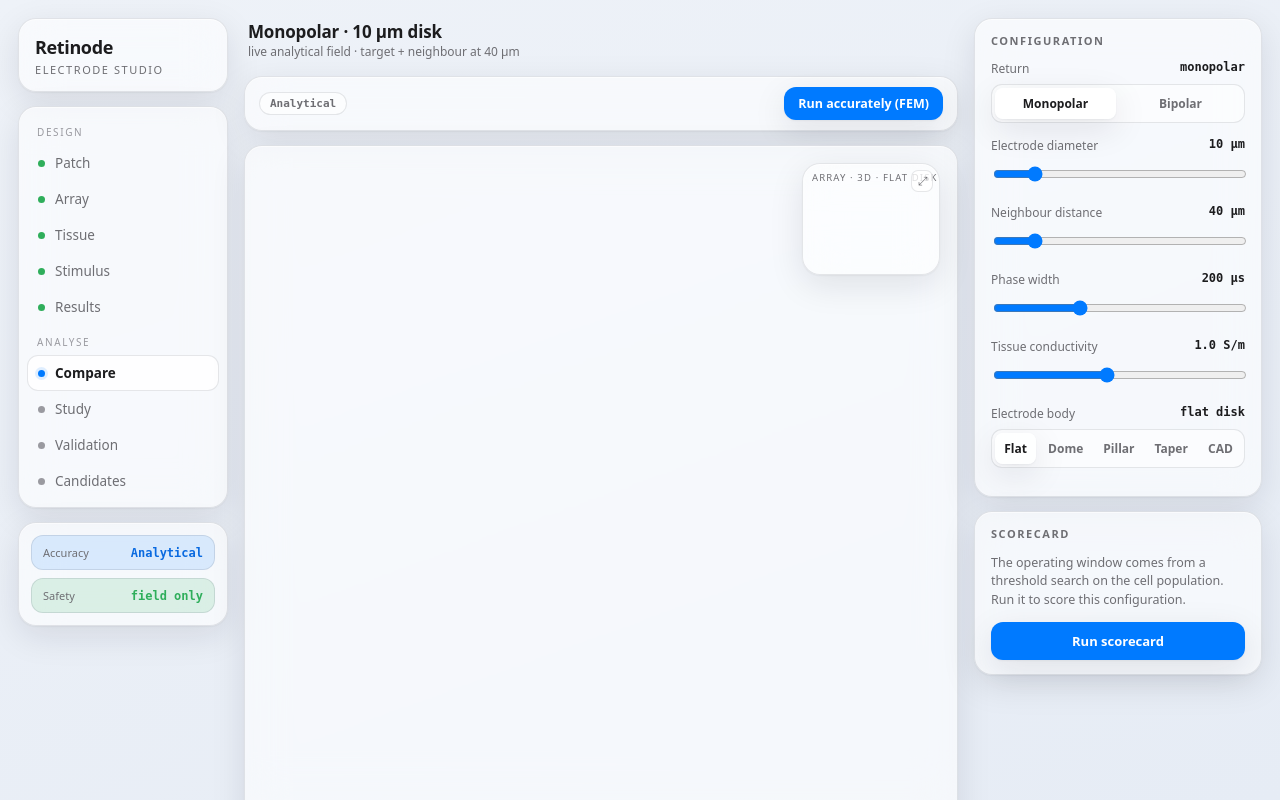
Test: Compare › renders immediately when the job is served from cache (no polling)
Click the button "Run scorecard". click: coordinates (1118, 641)
box: [991,622,1245,660]
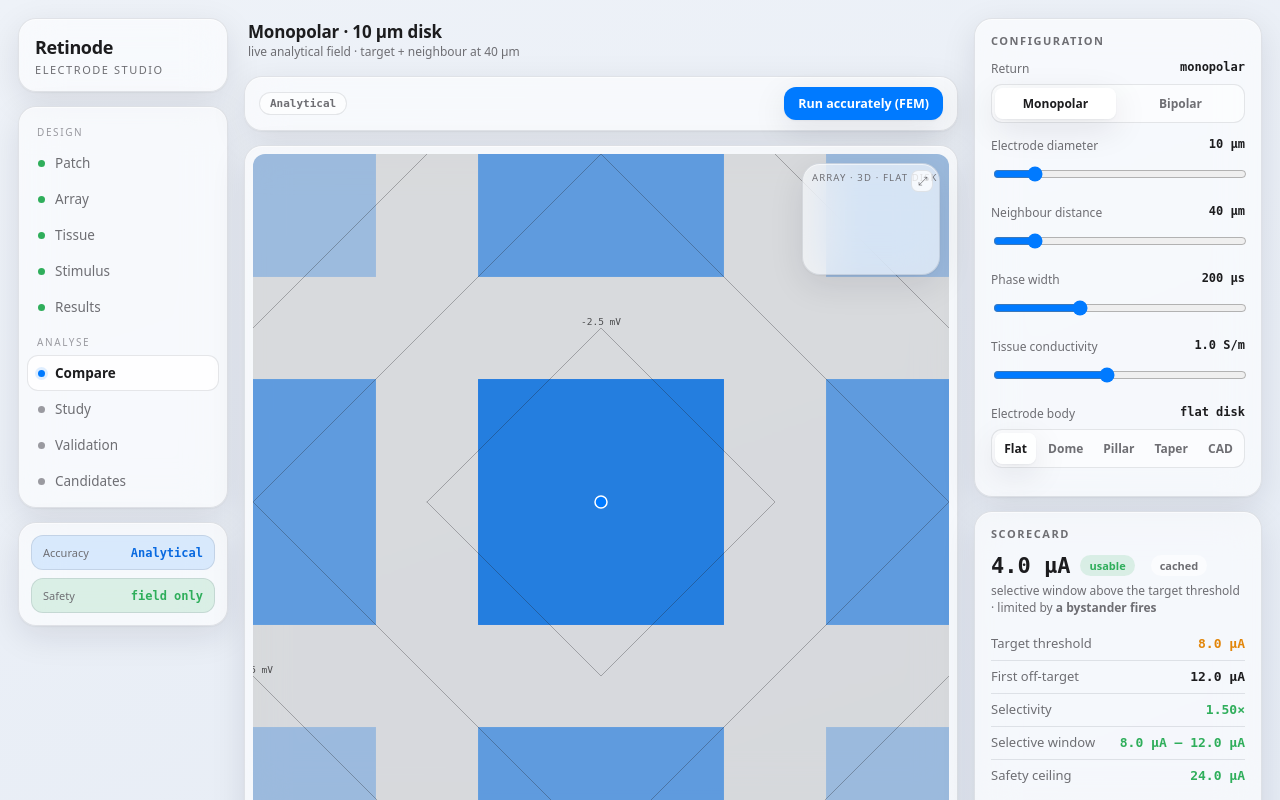
Now the text "cached" is shown, box [1151,555,1207,576]
